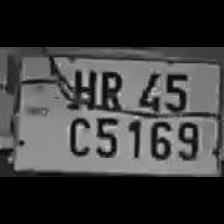1: (122, 114, 146, 160)
4: (129, 66, 163, 111)
5: (158, 66, 190, 111), (90, 112, 120, 158)
6: (144, 116, 172, 160)
9: (174, 116, 200, 160)
C: (62, 110, 92, 158)
H: (64, 65, 96, 109)
R: (94, 66, 124, 110)
